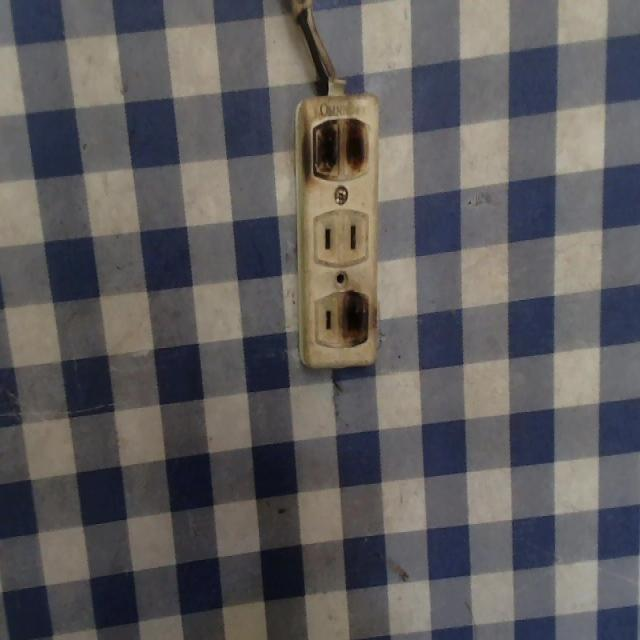-: (305, 113, 375, 184), (338, 291, 377, 352)
